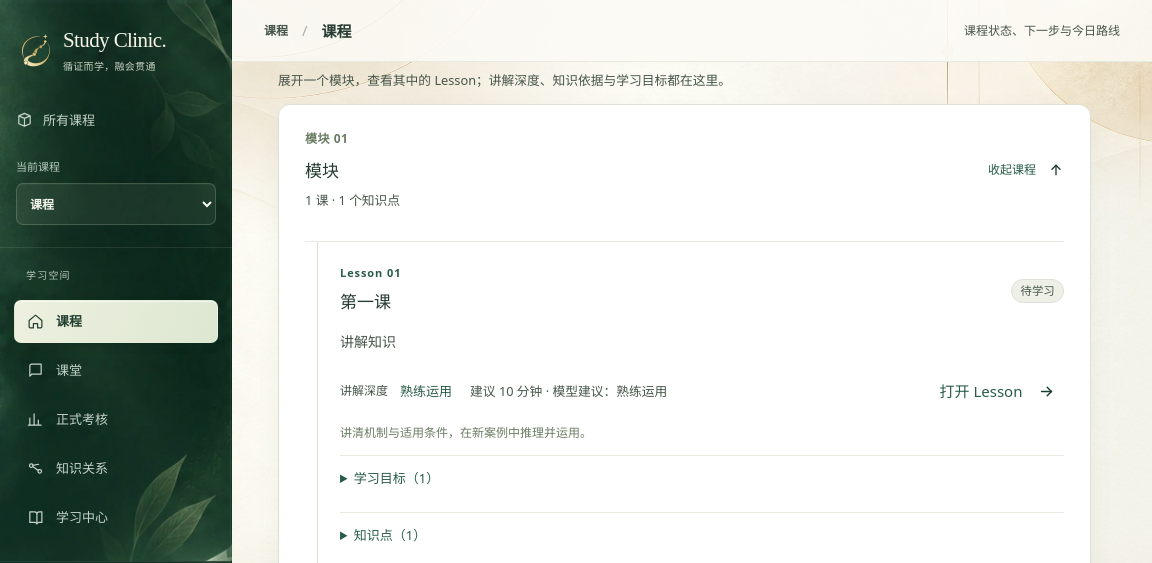
完整规划与独立学习界面 › 打开新课堂后进入学习记录会读取最新持久数据，避免仍显示初始0次课堂
(page scrolled)
Click the button "打开 Lesson": (997, 391) 931,371 -> 1064,411
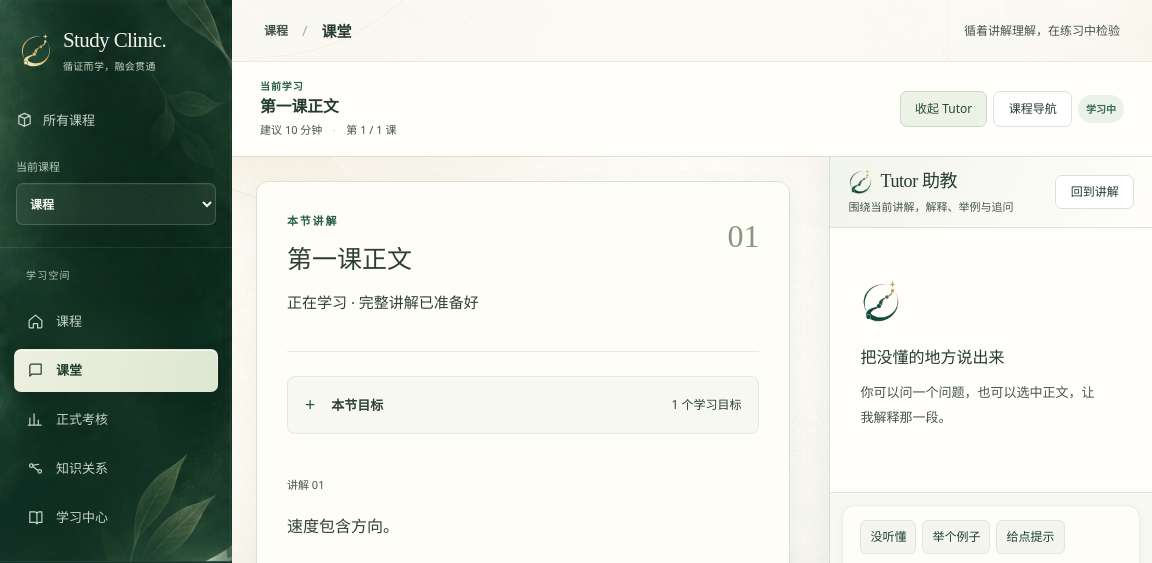
Expected: the heading "第一课正文" below "本节讲解" is shown, 287,241 -> 412,275
Click the button "学习中心": (116, 517) 14,496 -> 218,539
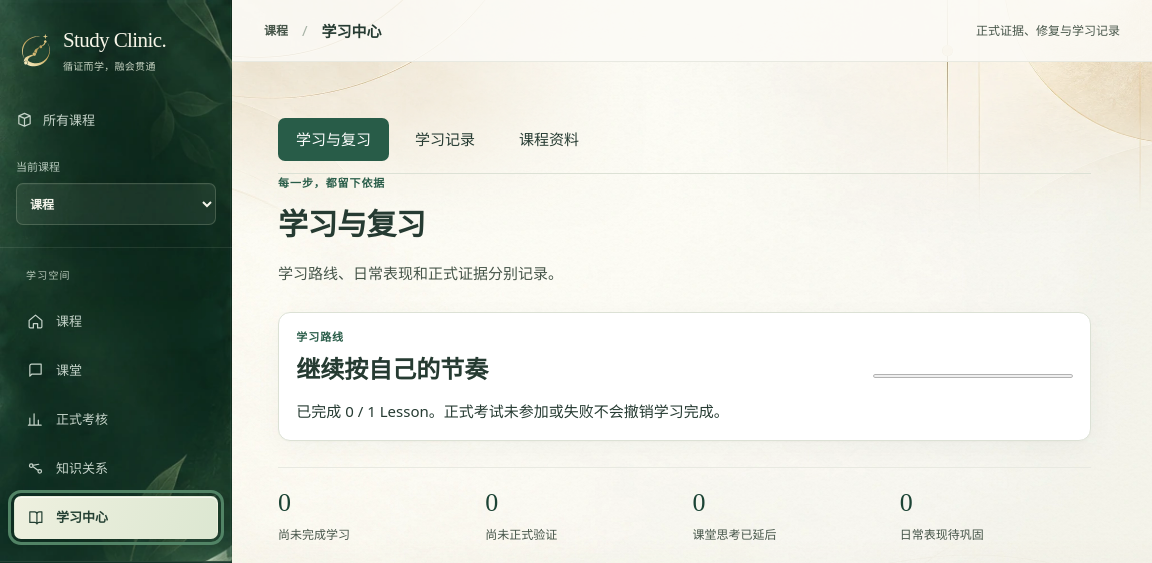
Click the tab "学习记录": (445, 139) 397,118 -> 493,161
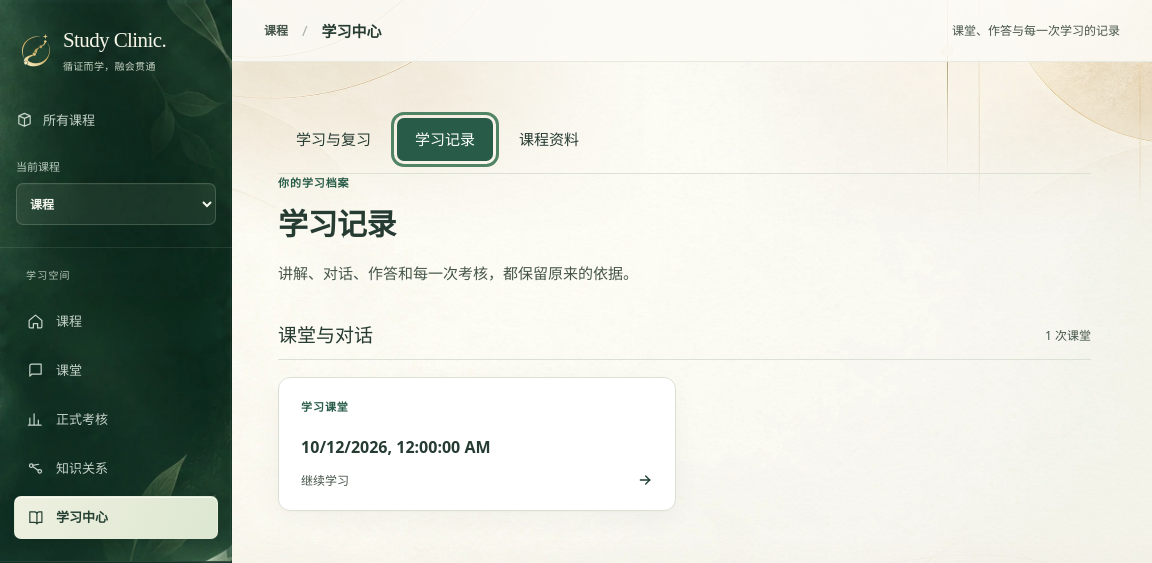
Expected: the text "1 次课堂" is shown, 1045,326 -> 1091,345
